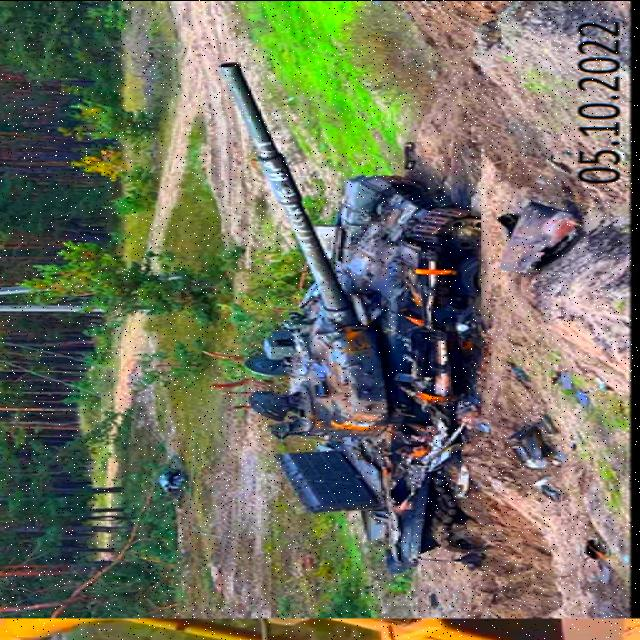TANK: (198, 56, 532, 568)
